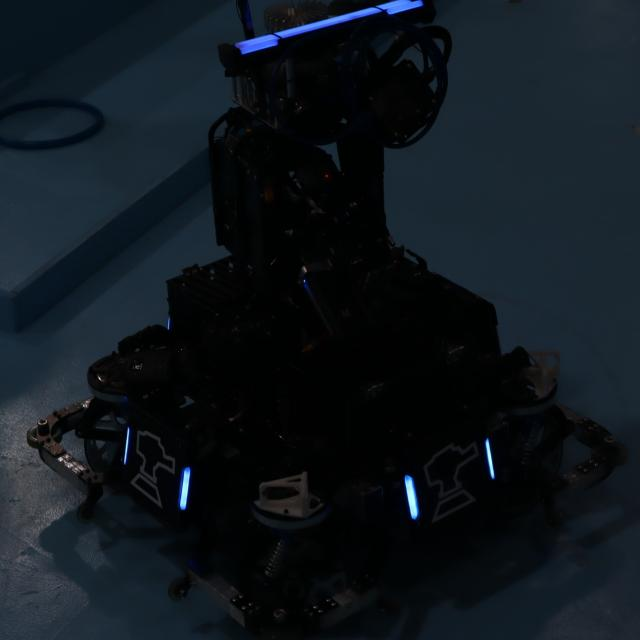Bs: (404, 431, 498, 526), (122, 416, 192, 516)
